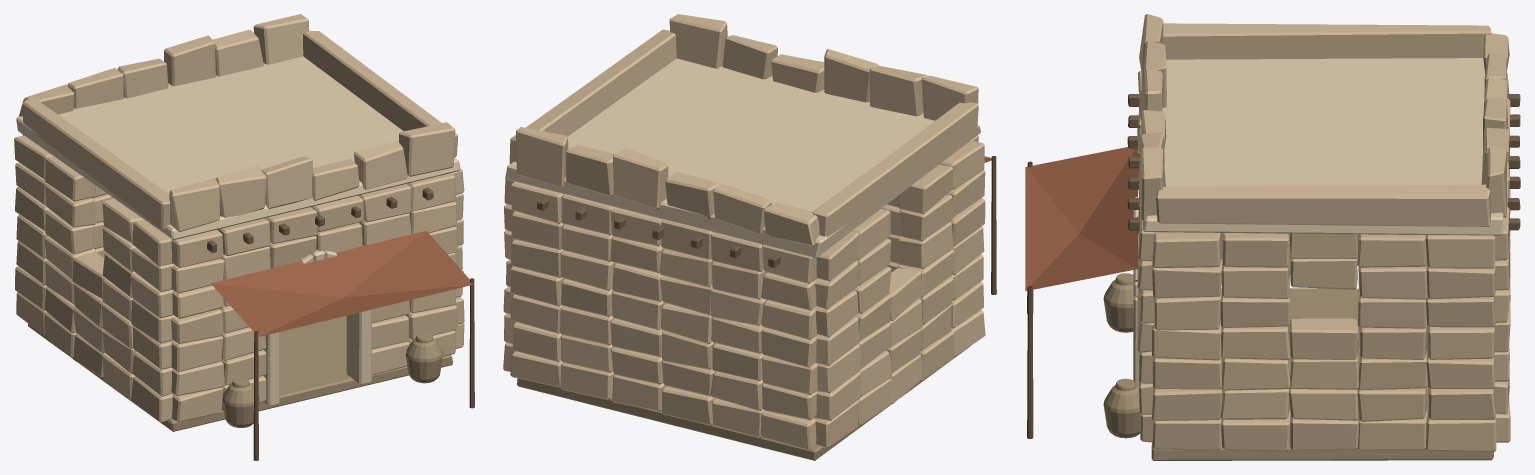
The model's file is house2.glb.
3 views of the same model, side by side, from view 1: azimuth 30°, elevation 25°; view 2: azimuth 150°, elevation 25°; view 3: azimuth 270°, elevation 25° (orthographic). The views are drawn at different scales.
Visible parts, largest first — view 1: house2_stone, house2_trim, house2_cloth, house2_darkstone, house2_wood; view 2: house2_stone, house2_trim, house2_darkstone, house2_wood; view 3: house2_stone, house2_trim, house2_cloth, house2_darkstone, house2_wood.
Boxes of the visible parts, x1,y1,x2,y2 form: house2_stone: [14, 14, 464, 422]; house2_trim: [16, 56, 460, 406]; house2_cloth: [211, 230, 473, 336]; house2_darkstone: [28, 315, 452, 431]; house2_wood: [207, 187, 474, 460]; house2_stone: [503, 14, 985, 450]; house2_trim: [505, 58, 980, 258]; house2_darkstone: [517, 346, 969, 460]; house2_wood: [537, 156, 996, 294]; house2_stone: [1137, 14, 1510, 451]; house2_trim: [1133, 58, 1506, 386]; house2_cloth: [1025, 147, 1137, 291]; house2_darkstone: [1103, 273, 1493, 460]; house2_wood: [1027, 94, 1520, 438].
Size of the model in its own units: 8.52 by 6.51 by 10.11.
